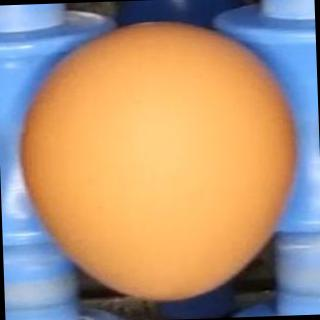Telur: (9, 11, 309, 308)
